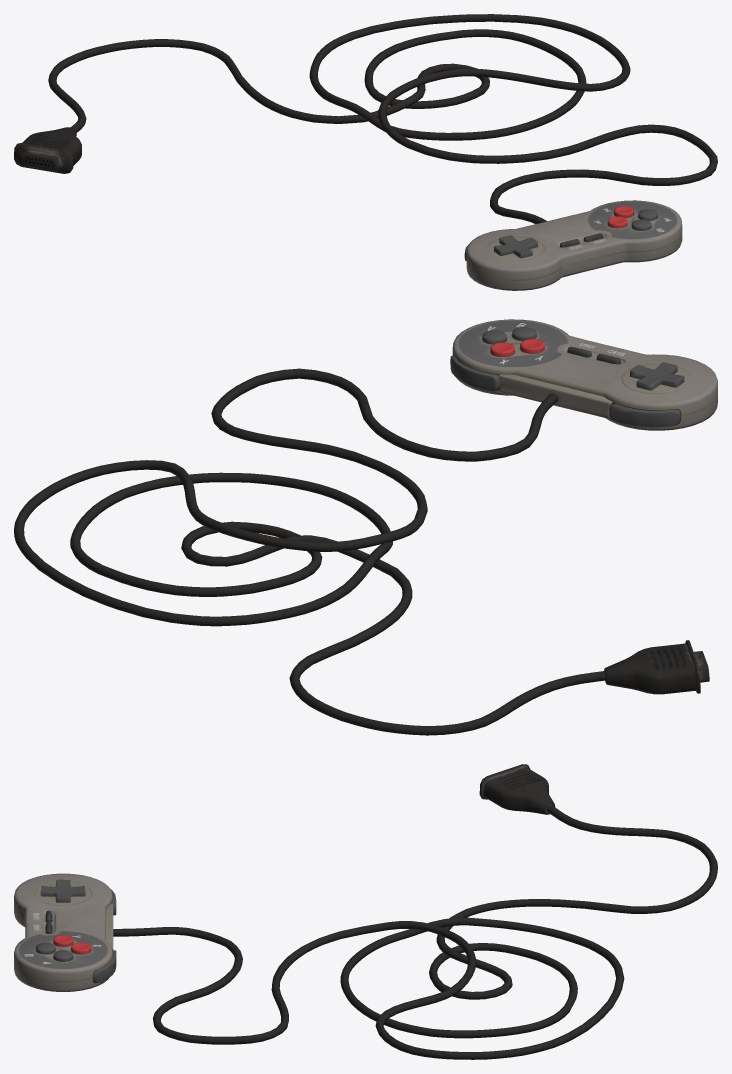
The model's file is gamepad.glb.
3 renders of one model, top to bottom at view 1: azimuth 30°, elevation 25°; view 2: azimuth 150°, elevation 25°; view 3: azimuth 270°, elevation 25°, orthographic. The views are drawn at different scales.
Visible parts, largest first — view 1: gamepad; view 2: gamepad; view 3: gamepad.
Part boxes in pixels (bbox=[...]): gamepad: bbox=[14, 14, 717, 290]; gamepad: bbox=[14, 319, 717, 735]; gamepad: bbox=[14, 764, 717, 1059].
Size of the model in its own units: 0.4041 by 0.0189 by 0.435.
1 material, 1 textured.
